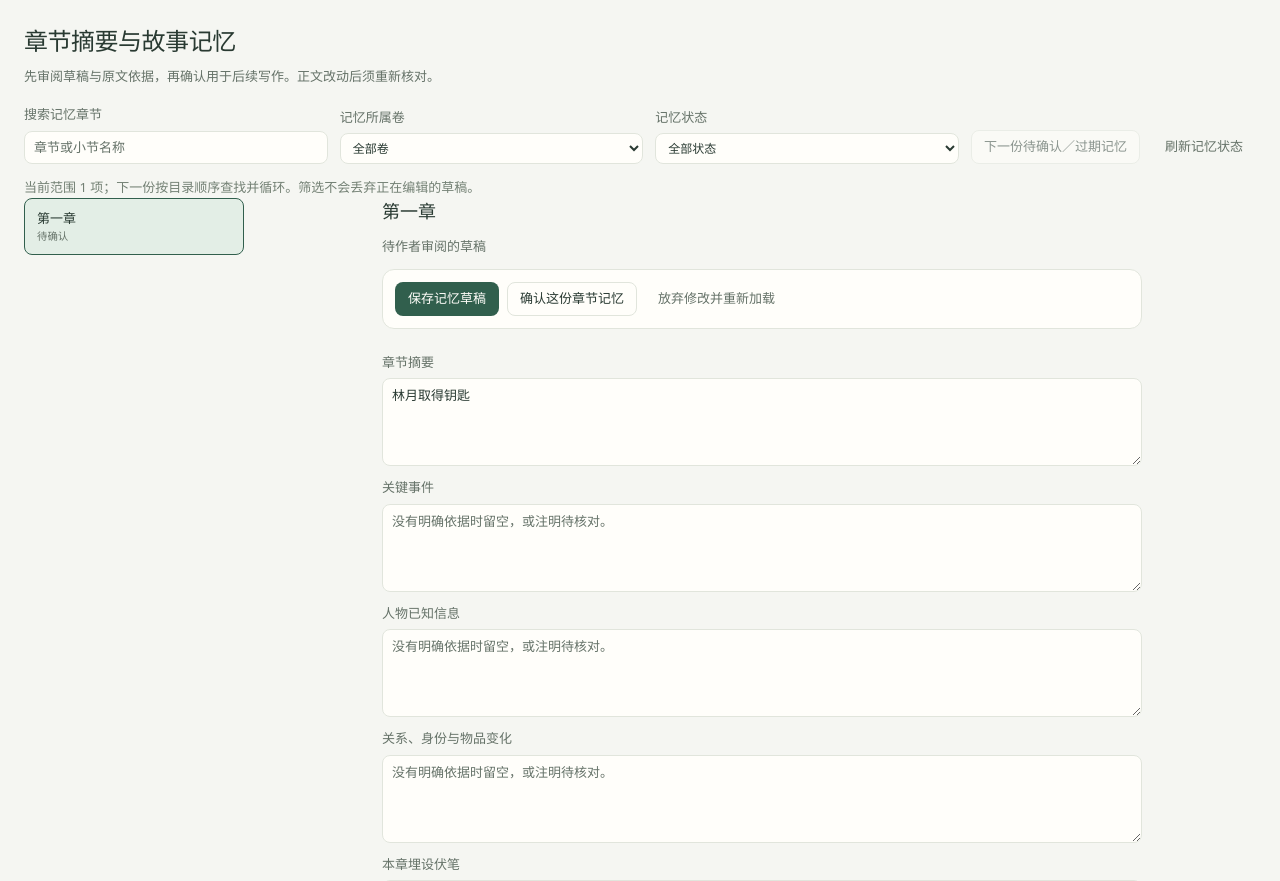
Test: refreshes queue status from disk even when the editor still holds older saved text
The width and height of the screenshot is (1280, 881).
Expected: the button "第一章 待确认" is shown, [24,198,244,255]
Click the button "刷新记忆状态".
click(1204, 147)  # box [1152,130,1256,164]
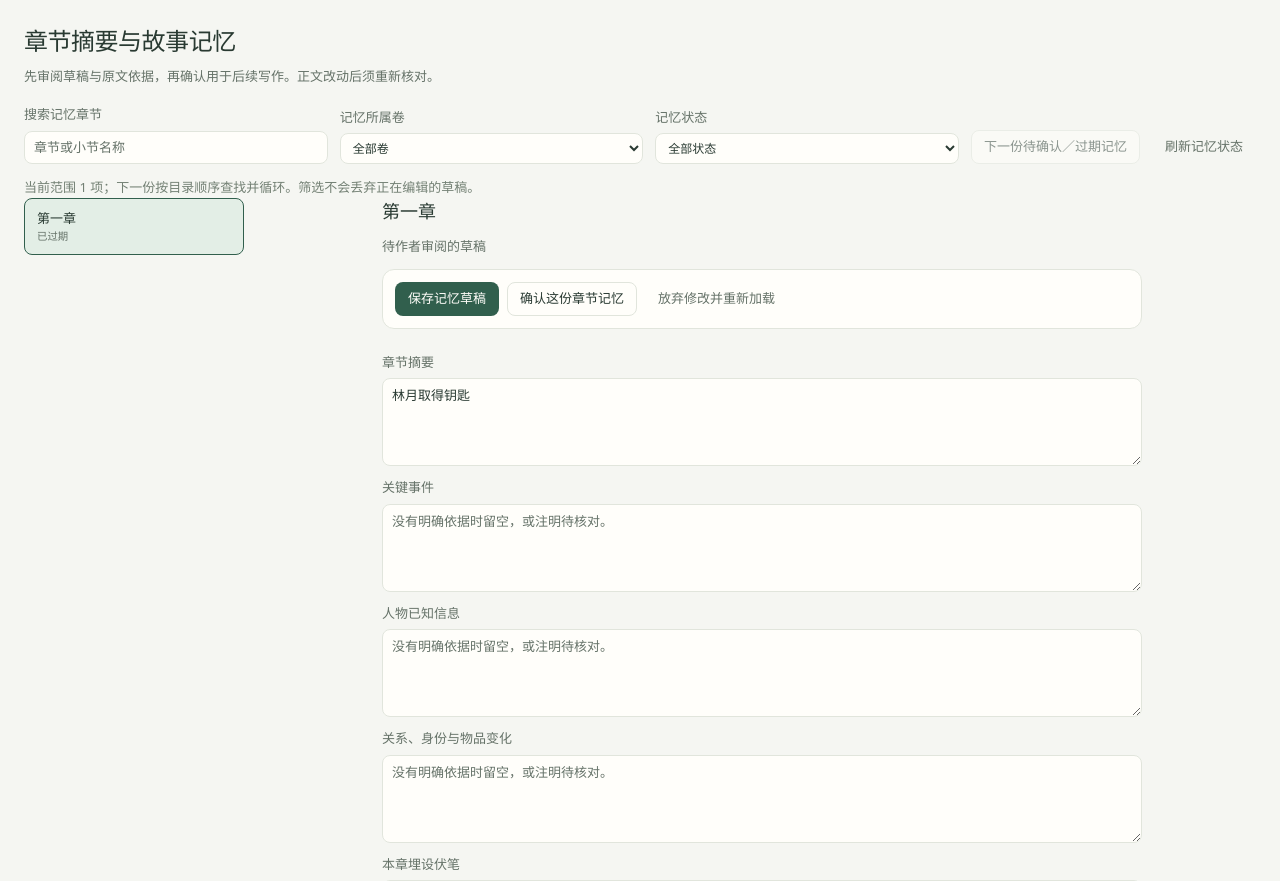
Expected: the button "第一章 已过期" is shown, [24,198,244,255]
